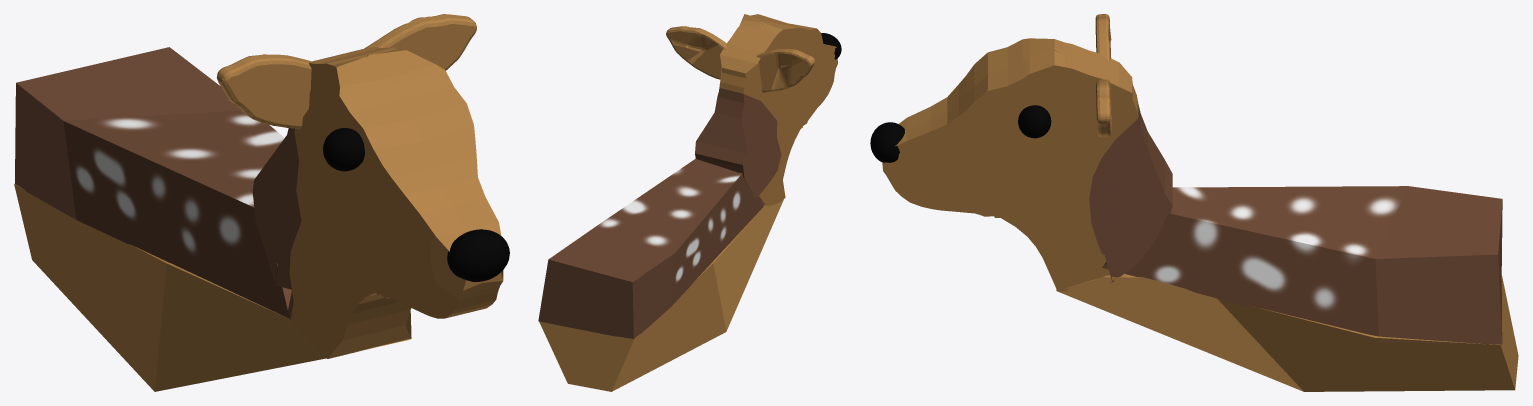
File: deer_body.fbx
The picture shows the model from 3 angles, left to right: view 1: azimuth 30°, elevation 25°; view 2: azimuth 150°, elevation 25°; view 3: azimuth 270°, elevation 25°; orthographic projection. The views are drawn at different scales.
Parts seen in each view (by area): view 1: Plane.002, Cube, Cube.001; view 2: Cube, Plane.002, Cube.001; view 3: Plane.002, Cube, Cube.001.
Boxes of the visible parts, left/top/right/bottom form: Plane.002: left=216, top=14, right=509, bottom=358; Cube: left=15, top=47, right=291, bottom=318; Cube.001: left=14, top=183, right=410, bottom=391; Cube: left=538, top=159, right=763, bottom=339; Plane.002: left=666, top=14, right=841, bottom=206; Cube.001: left=539, top=199, right=783, bottom=391; Plane.002: left=870, top=14, right=1172, bottom=291; Cube: left=1102, top=186, right=1502, bottom=344; Cube.001: left=1056, top=273, right=1518, bottom=391.
Size of the model in its own units: 75.22 by 119 by 215.
Materials: 3 (1 with a texture image).
